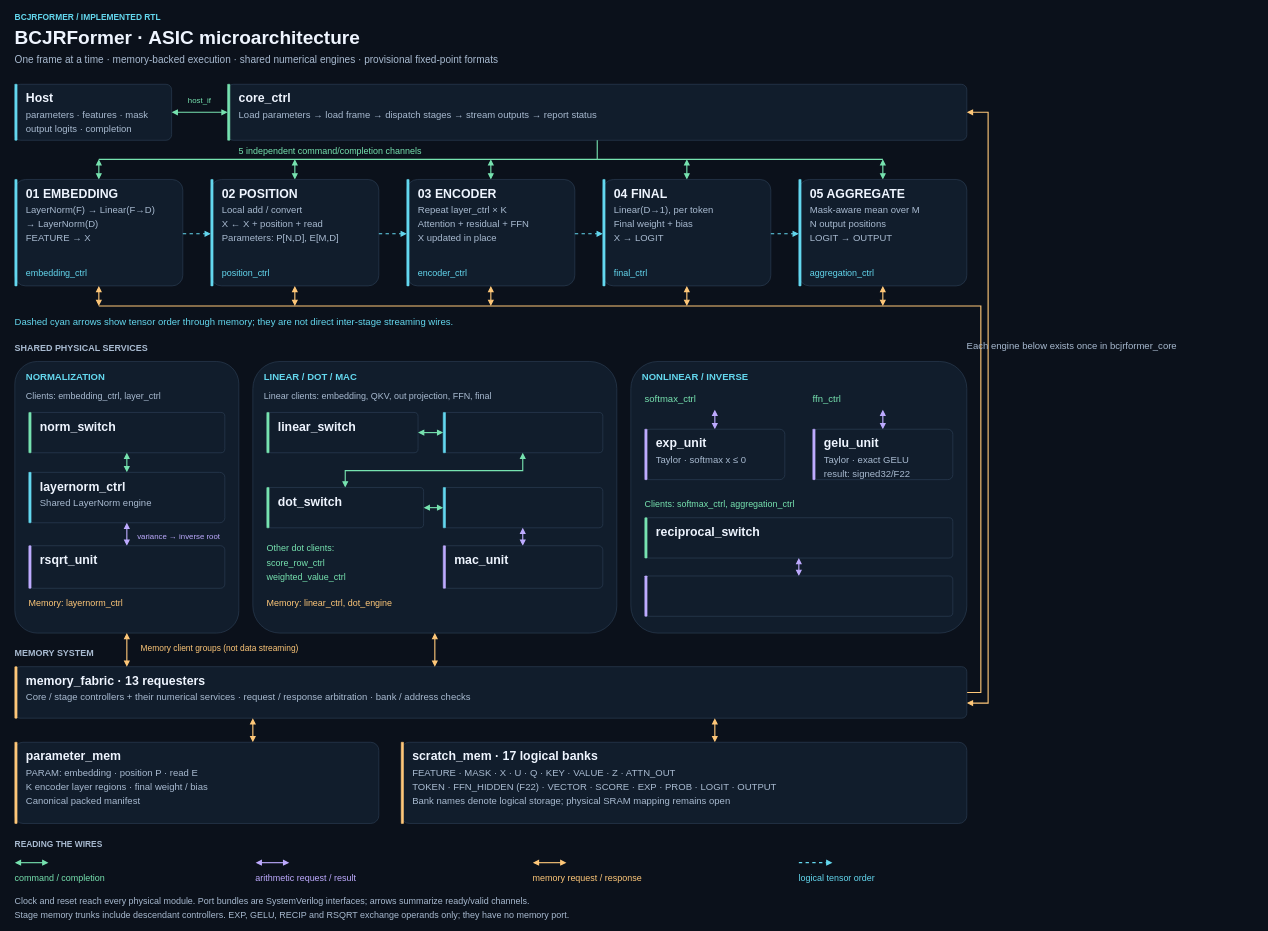
The diagram is 1268 pixels wide and 931 high, and some of its shapes have lost their labels. Each missing label, with the box of its shape:
dot_engine: (443, 487, 603, 528)
linear_ctrl: (443, 412, 603, 453)
reciprocal_unit: (644, 575, 953, 616)
